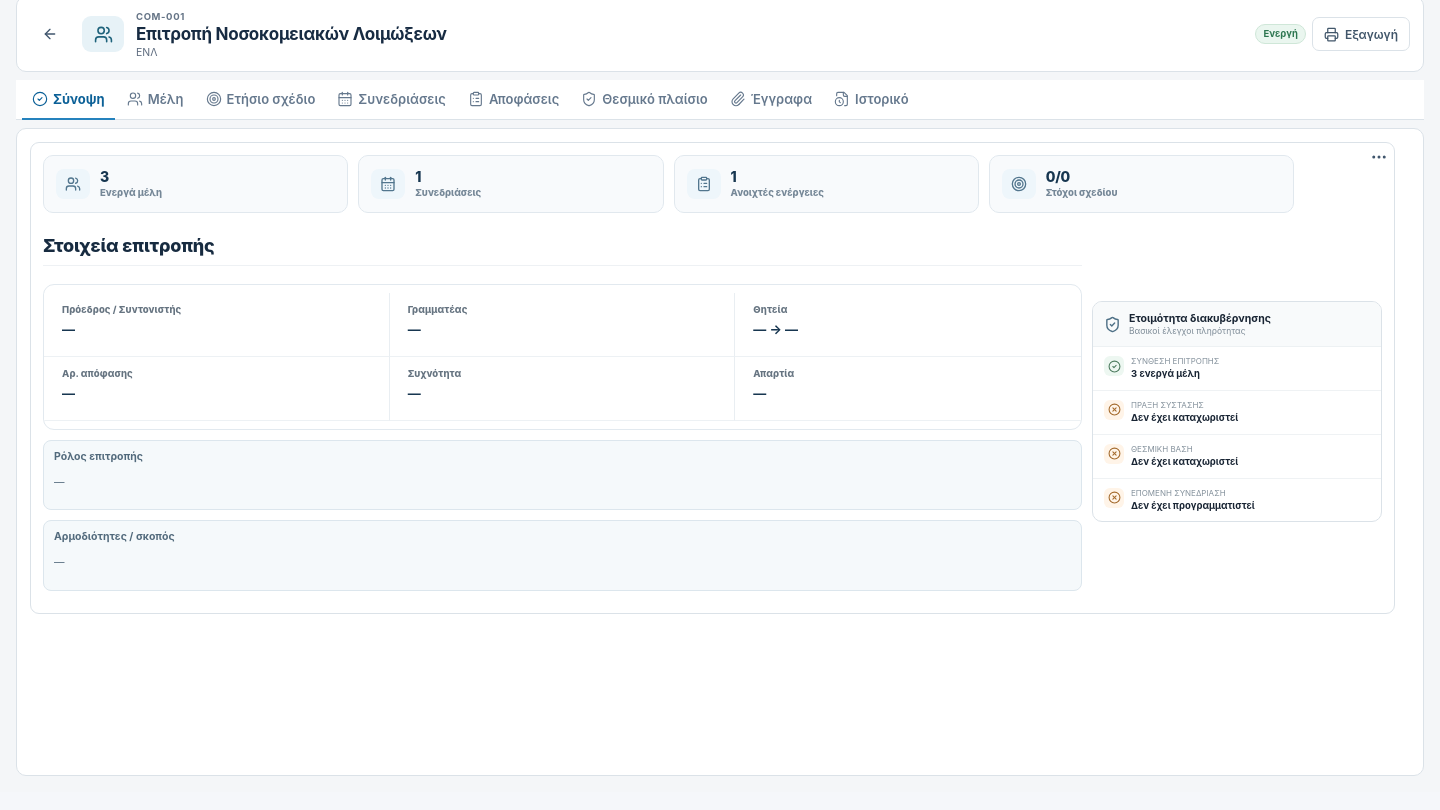
Test case: committee record: meetings › cancels a meeting through a governed reason dialog
The width and height of the screenshot is (1440, 810).
Click the tab "Συνεδριάσεις" at (392, 100), box [327,80,456,120]
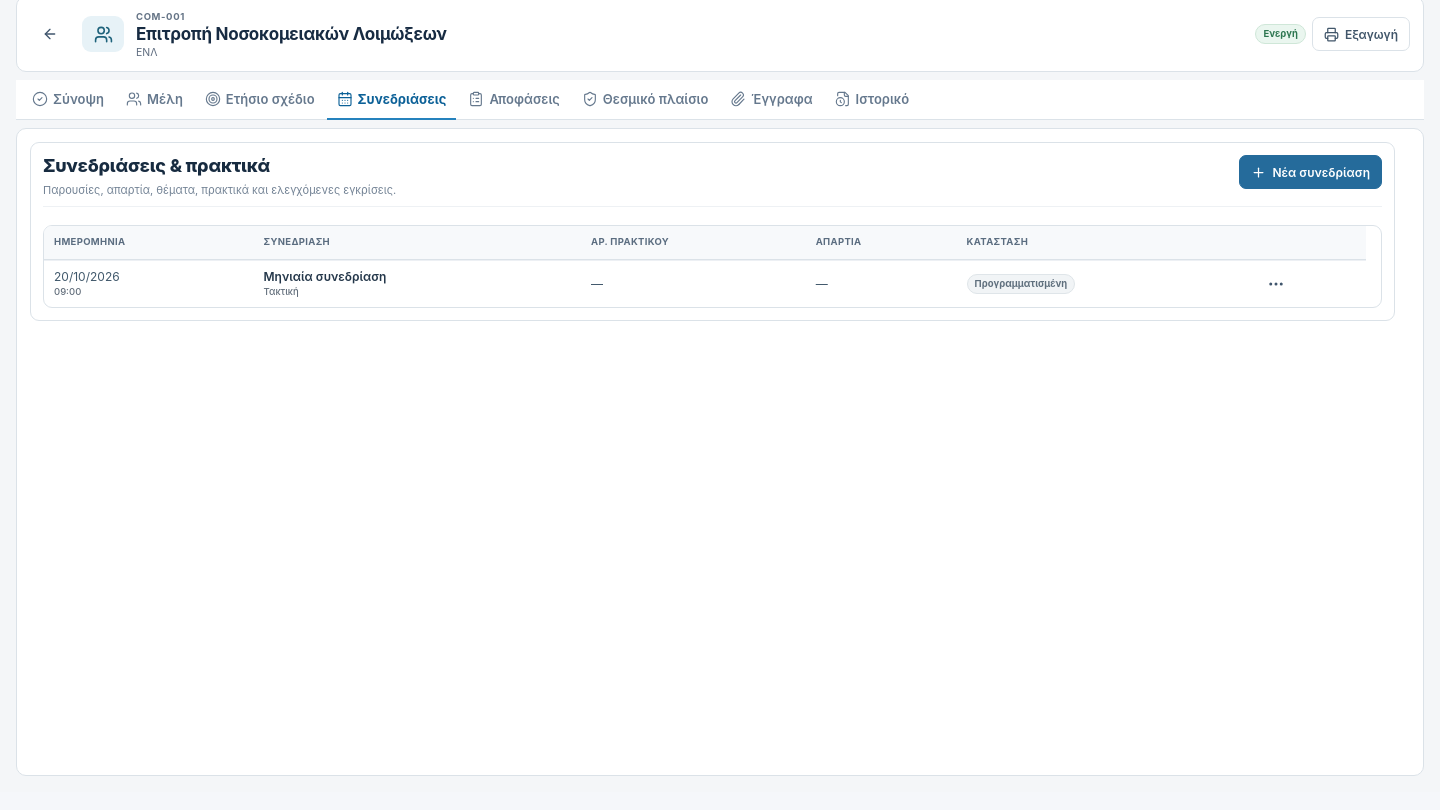
Click the button named "Ενέργειες" at (1276, 284), box [1261,268,1291,298]
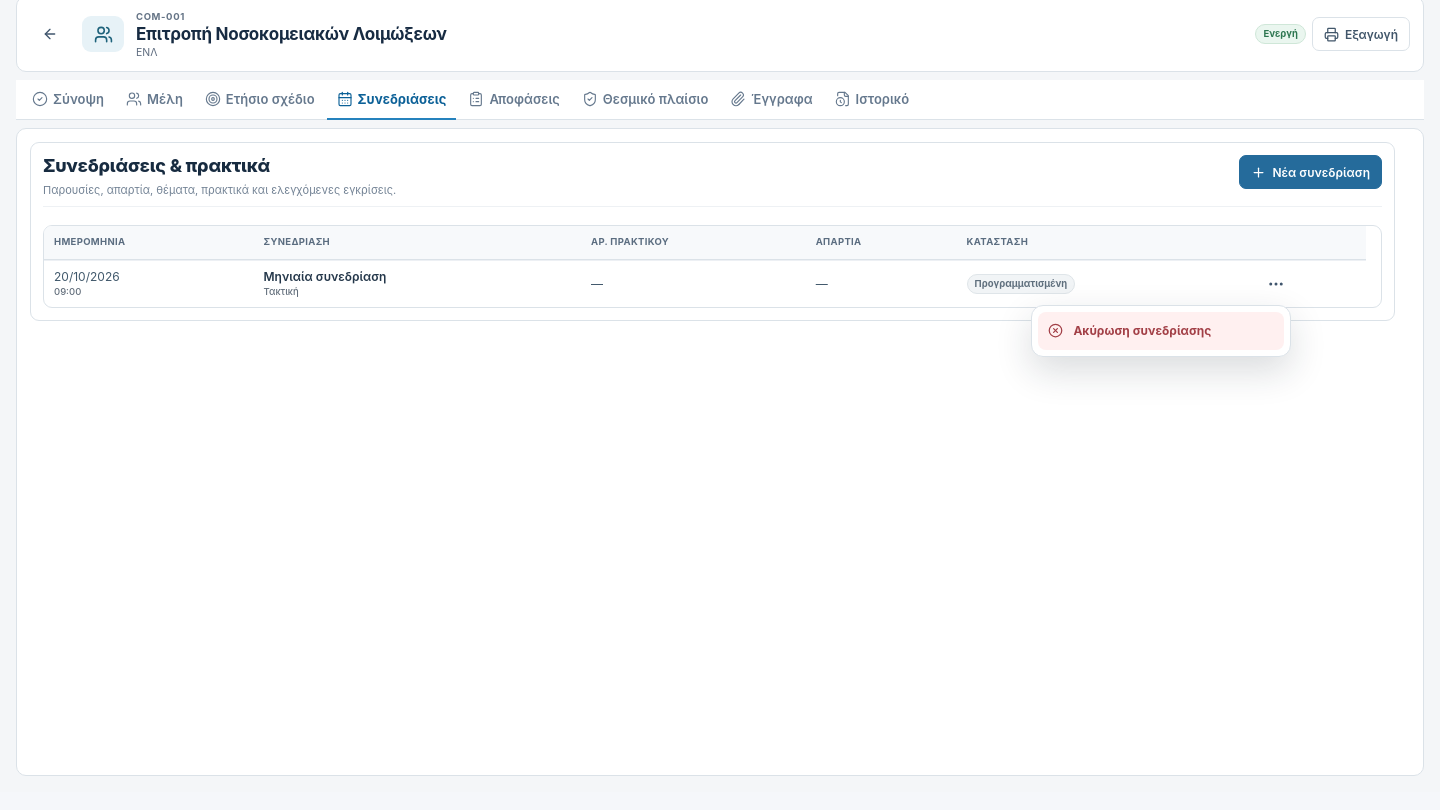
Click the menu item "Ακύρωση συνεδρίασης" at (1161, 330), box [1038,312,1284,350]
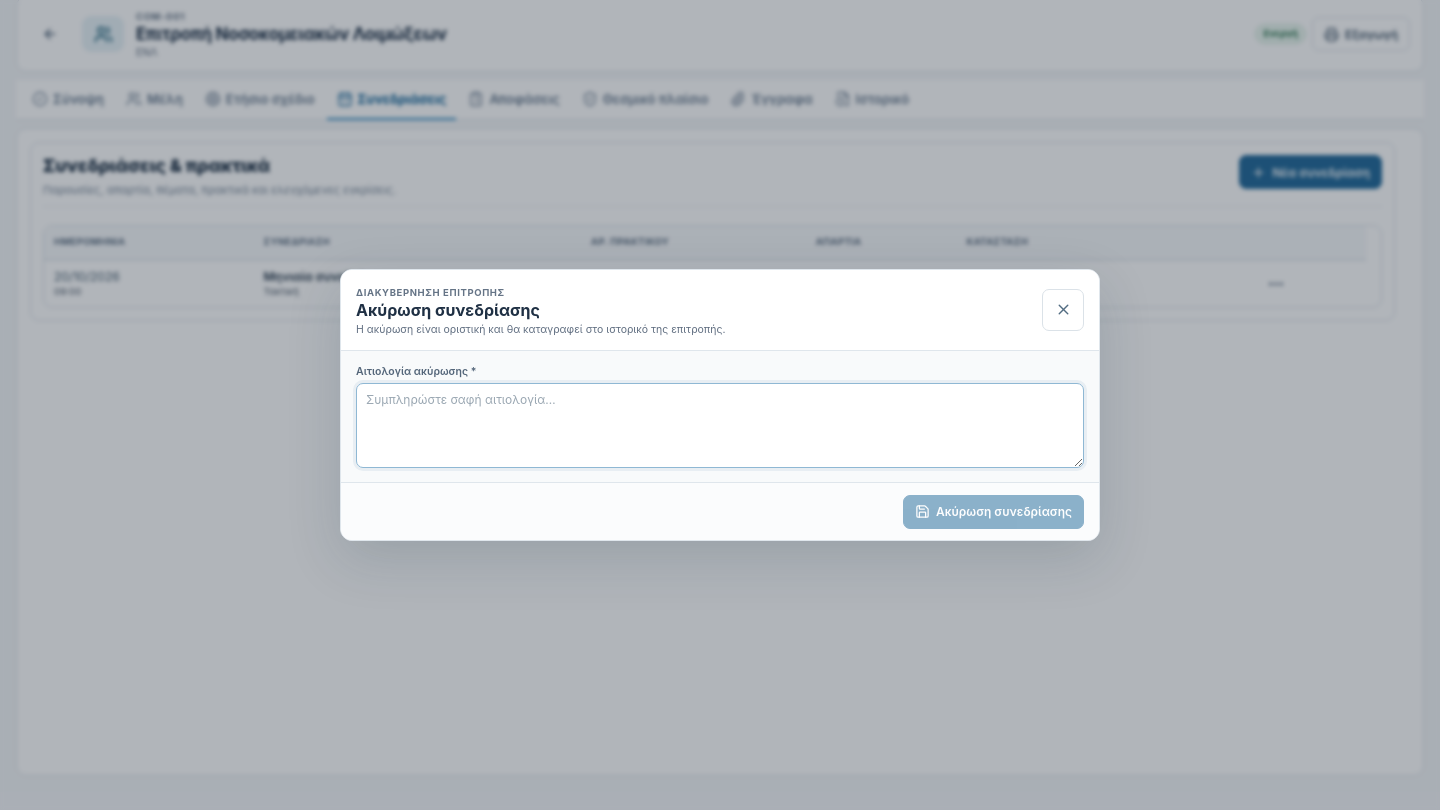
Result: the dialog "Ακύρωση συνεδρίασης" is shown at [340,268,1100,541]
